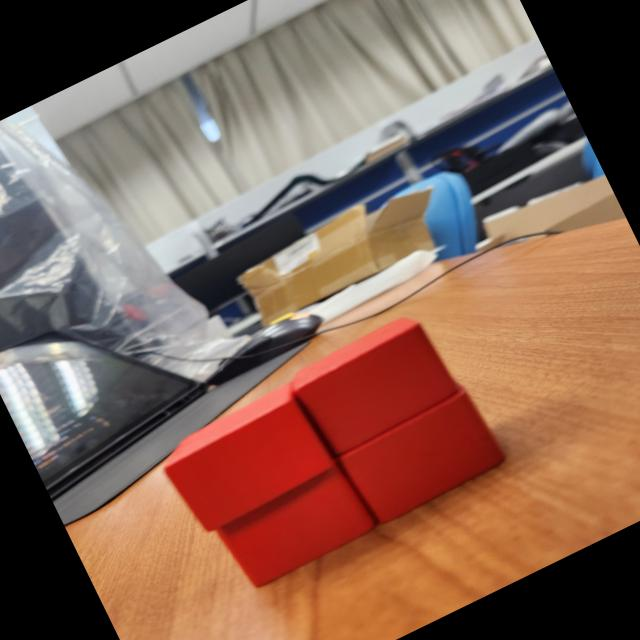red: (150, 378, 343, 541), (322, 378, 510, 534), (284, 306, 464, 459), (206, 446, 382, 594)
